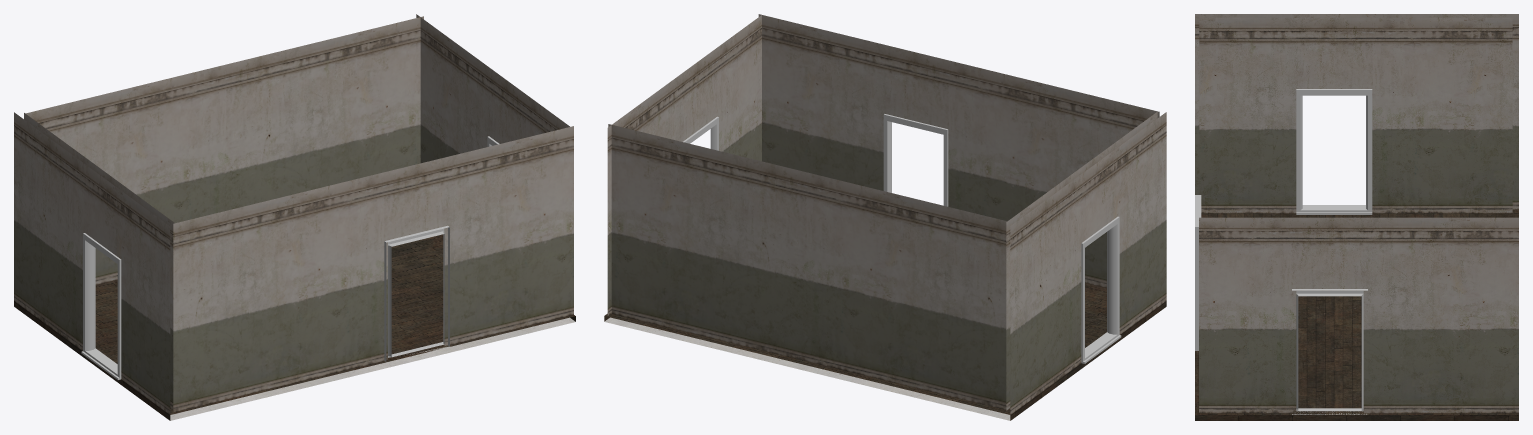
Rendered from room_6m_x_9m_door_right_back.fbx.
3 views of the same model, side by side, from view 1: azimuth 30°, elevation 25°; view 2: azimuth 150°, elevation 25°; view 3: azimuth 270°, elevation 25° (orthographic). The views are drawn at different scales.
Visible parts, largest first — view 1: room_6m_x_9m_door_right_back; view 2: room_6m_x_9m_door_right_back; view 3: room_6m_x_9m_door_right_back.
Boxes of the visible parts, <box> form: room_6m_x_9m_door_right_back: <box>14,14,575,420</box>; room_6m_x_9m_door_right_back: <box>604,14,1166,420</box>; room_6m_x_9m_door_right_back: <box>1195,14,1518,420</box>.
Size of the model in its own units: 908 by 412 by 600.
